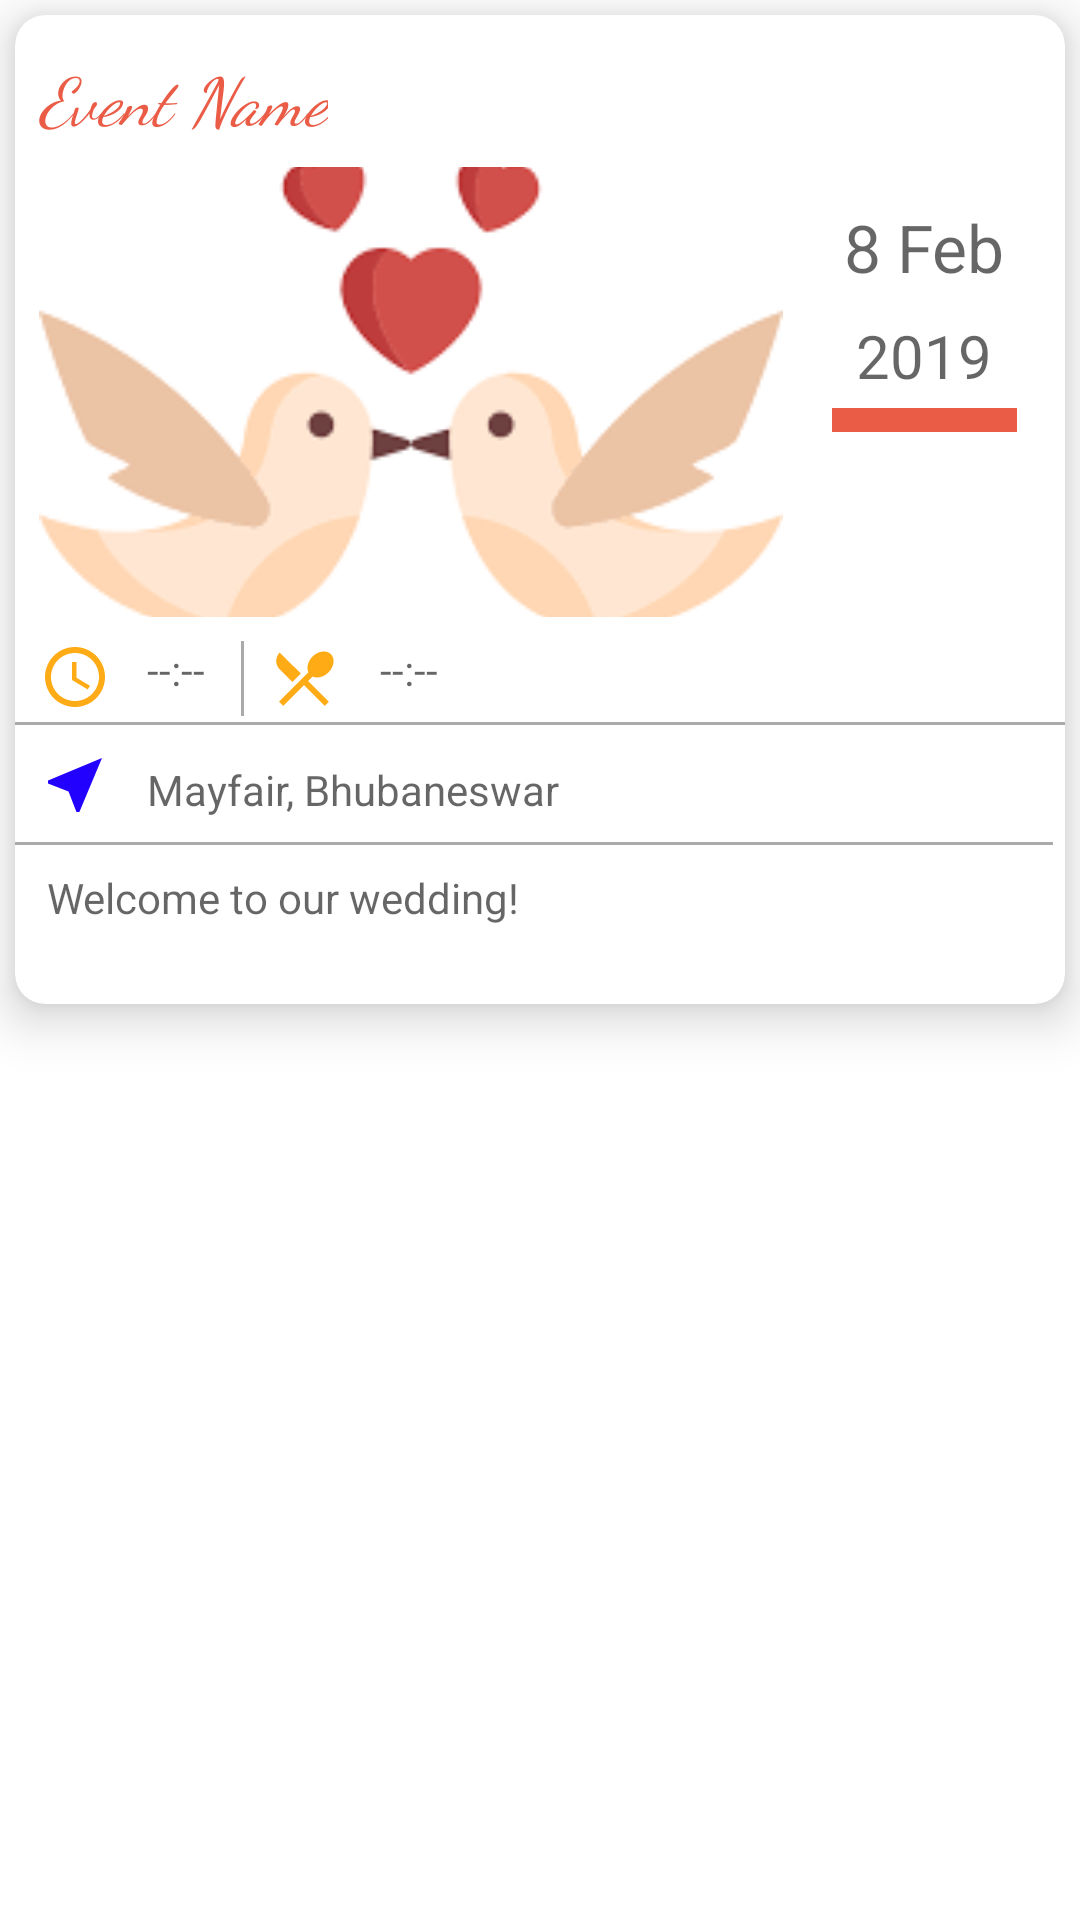

Icons on this 1080px x 1920px Android screen, each with the point to tap as (x,y):
event address: (75,785)
event food: (305,678)
event time: (75,677)
